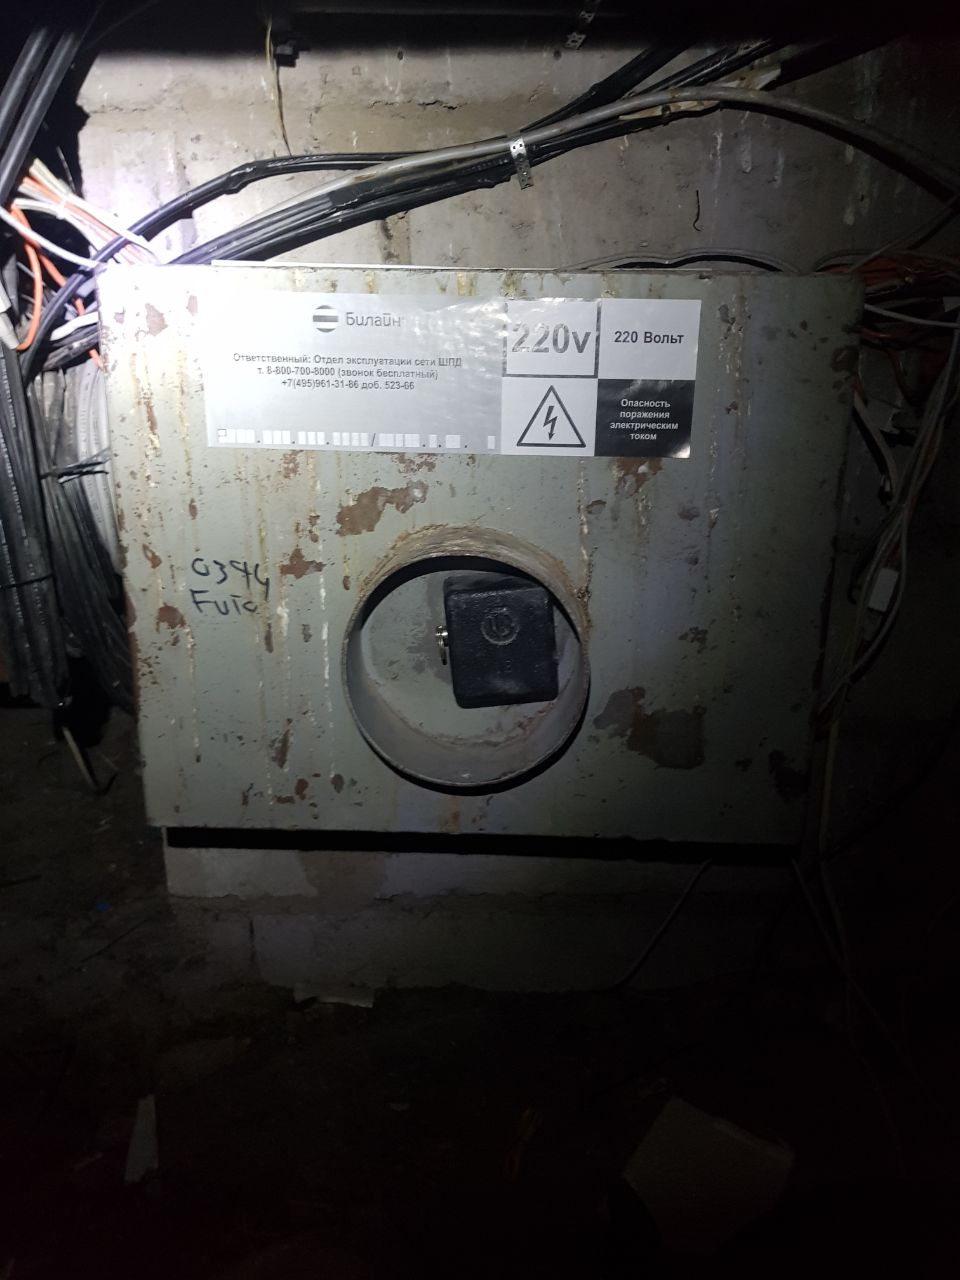shta-3: (87, 258, 865, 853)
